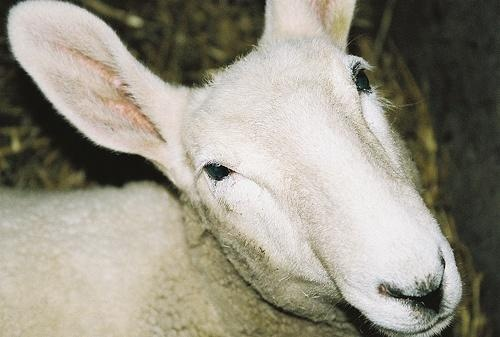sheep: (1, 4, 469, 337)
